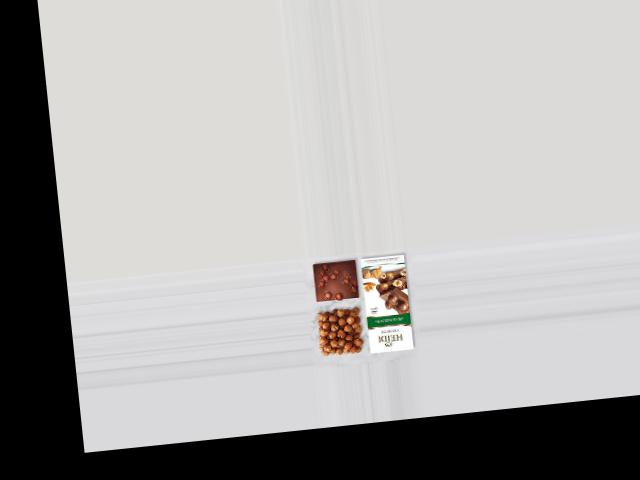chocolate: (307, 257, 361, 303)
